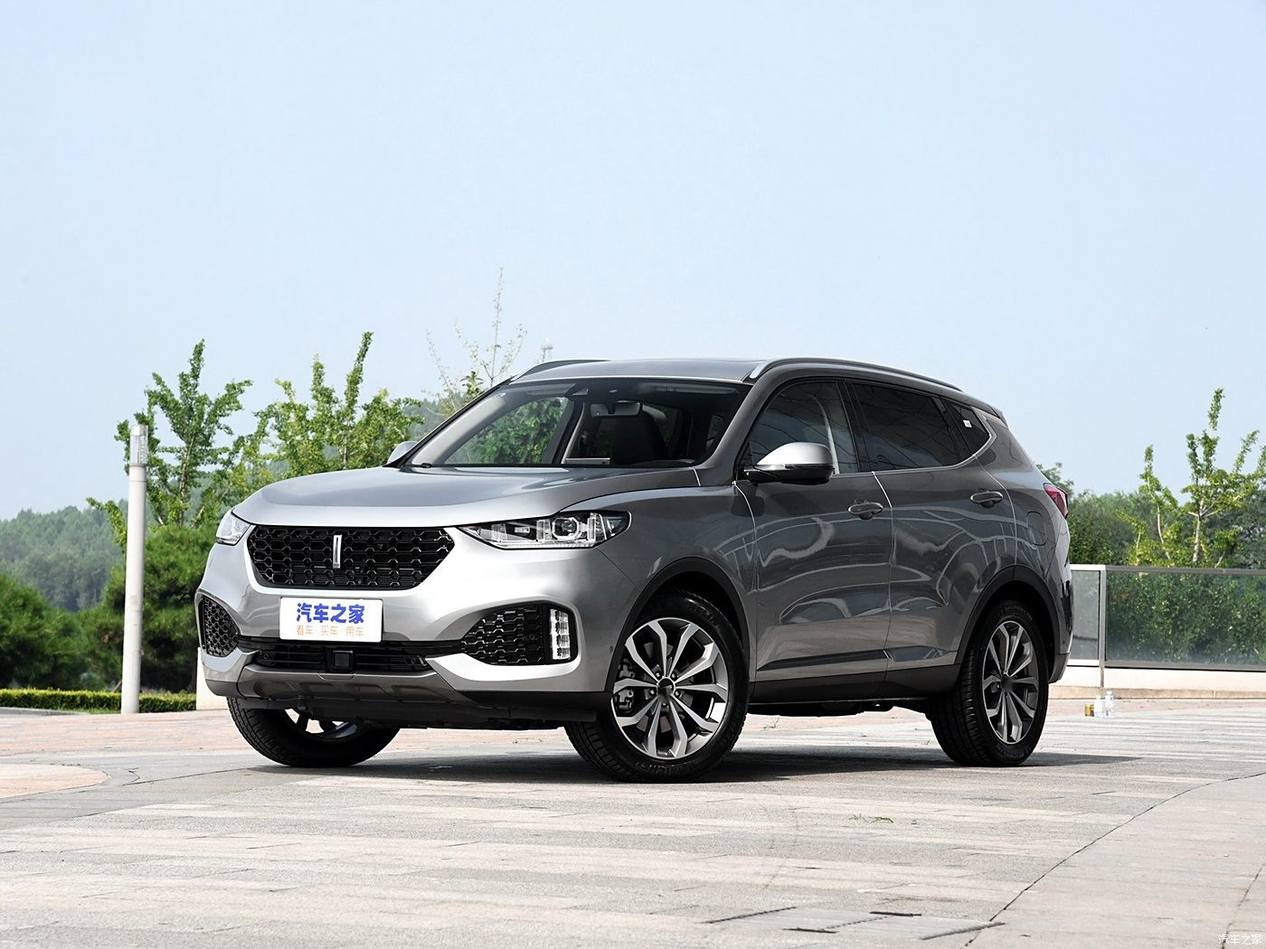WEY: (334, 536, 340, 568)
